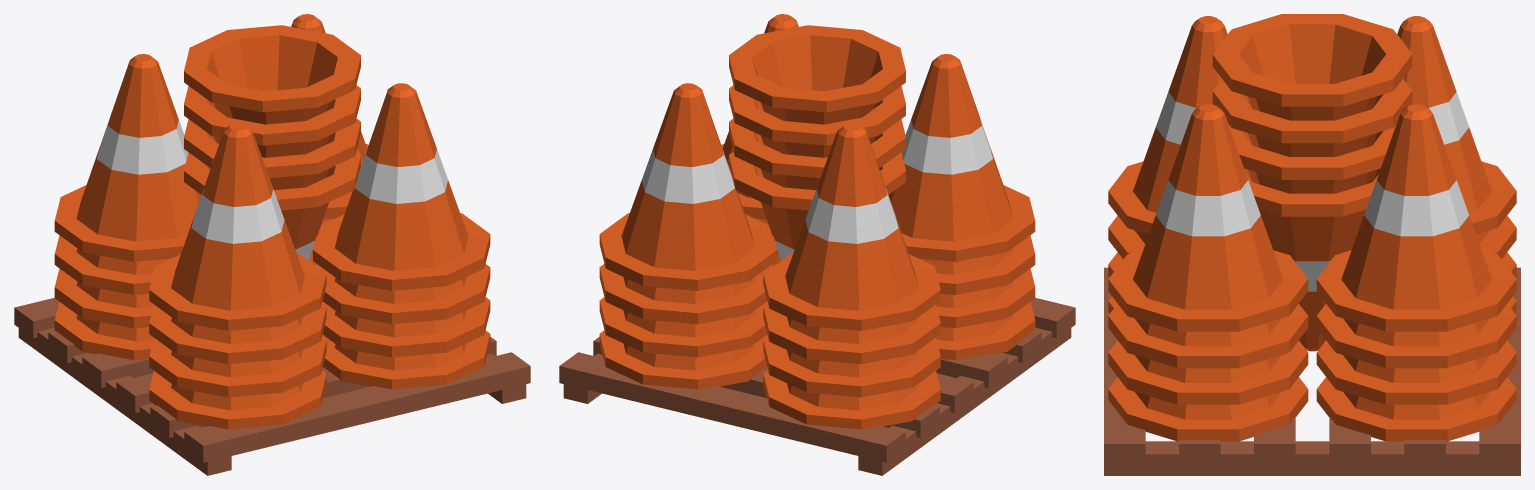
File: shelf-item-3.glb
The picture shows the model from 3 angles, left to right: view 1: azimuth 30°, elevation 25°; view 2: azimuth 150°, elevation 25°; view 3: azimuth 270°, elevation 25°; orthographic projection. The views are drawn at different scales.
Visible parts, largest first — view 1: shelf-item-3; view 2: shelf-item-3; view 3: shelf-item-3.
Boxes of the visible parts, <box> form: shelf-item-3: <box>14,14,530,475</box>; shelf-item-3: <box>559,14,1075,475</box>; shelf-item-3: <box>1104,14,1520,475</box>.
Bounding box in the file's own units: 2 × 1.78 × 2.
